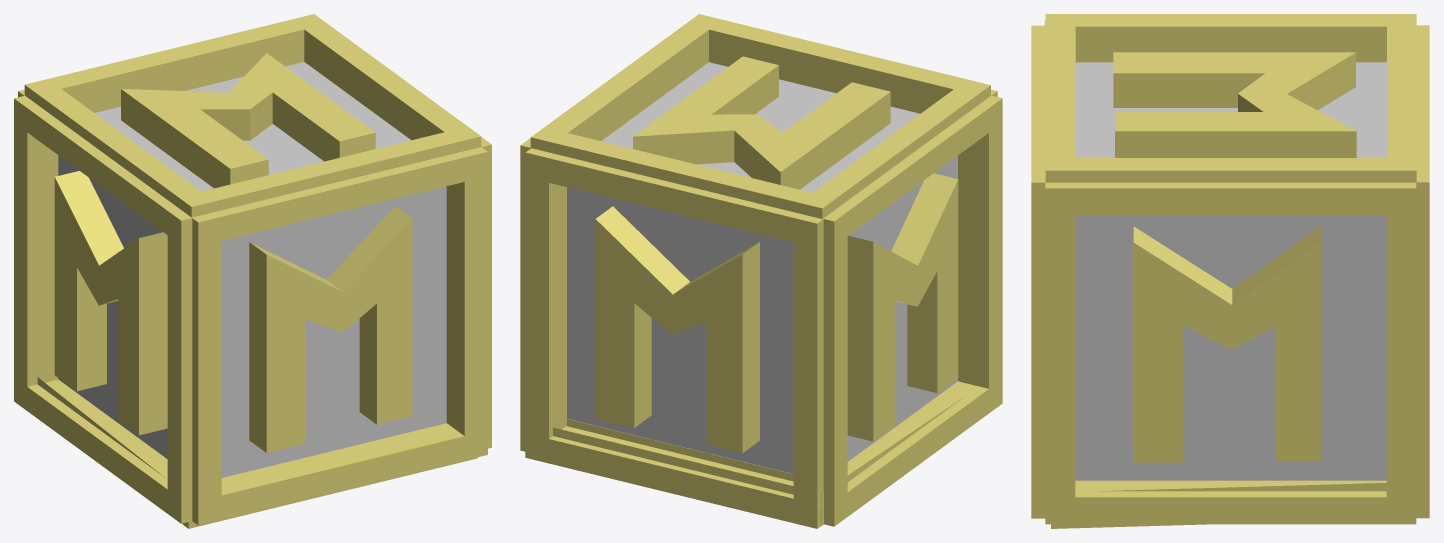
File: M_Block.fbx
3 renders of one model, left to right at view 1: azimuth 30°, elevation 25°; view 2: azimuth 150°, elevation 25°; view 3: azimuth 270°, elevation 25°, orthographic. The views are drawn at different scales.
Visible parts, largest first — view 1: pCube63, pCube63.001; view 2: pCube63, pCube63.001; view 3: pCube63, pCube63.001.
Part boxes in pixels (box(x1,y1,x2,y2)): pCube63: box(14, 14, 491, 528); pCube63.001: box(58, 62, 446, 477); pCube63: box(520, 14, 1002, 528); pCube63.001: box(567, 62, 957, 473); pCube63: box(1031, 14, 1429, 528); pCube63.001: box(1075, 62, 1386, 480).
Size of the model in its own units: 53.72 by 53.36 by 53.72.
